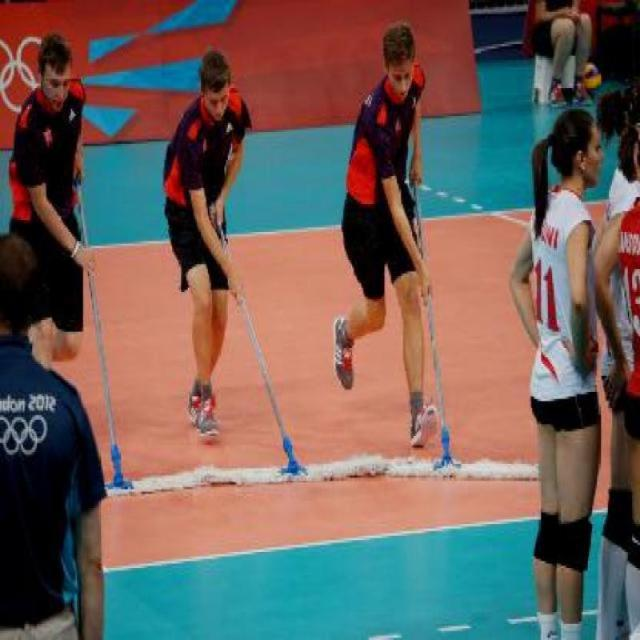volleyball: (583, 60, 606, 98)
